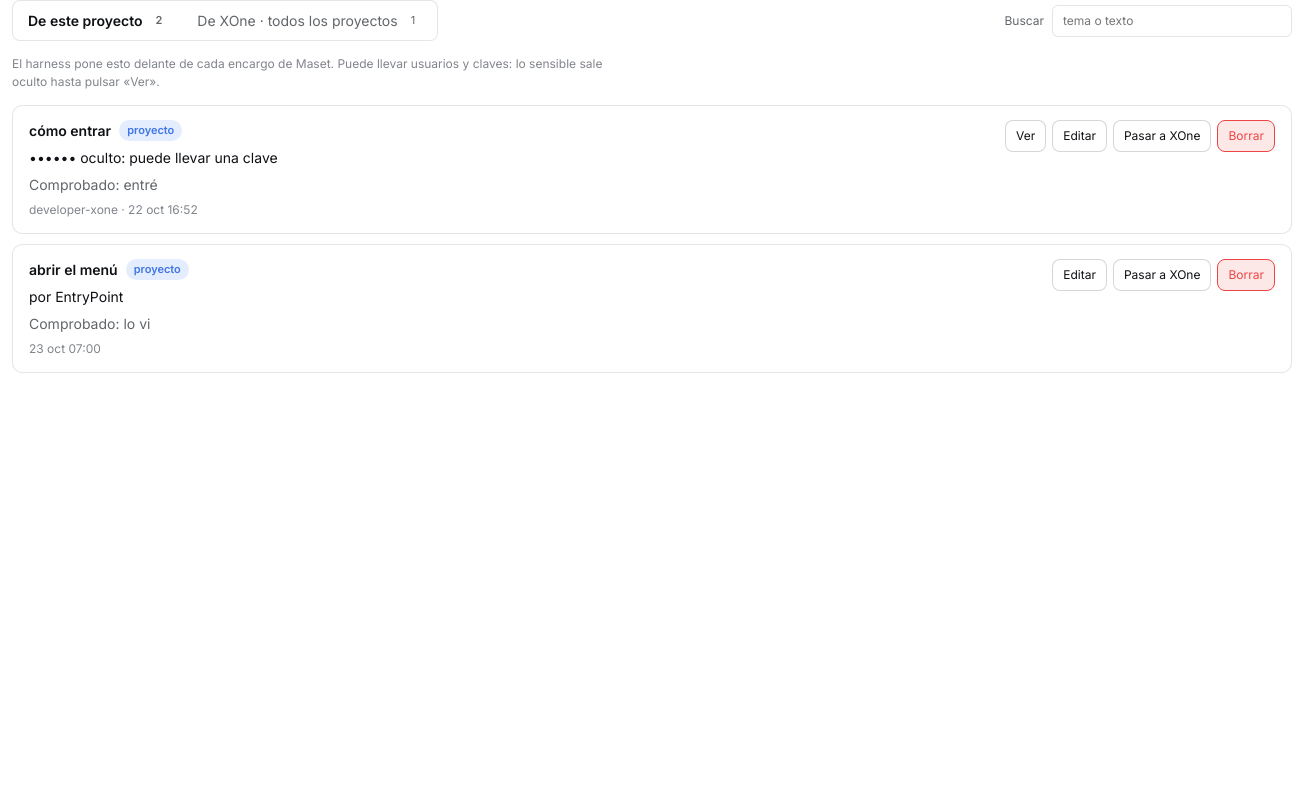
Scenario: la pestaña «Lo aprendido» › editar manda lo cambiado, y una NEGATIVA del servidor se dice en esa entrada sin cerrar el editor
The image size is (1304, 800).
Expected: the heading "abrir el menú" is shown, [29,259,118,280]
Click the button "Editar" in the row of "por EntryPoint": (1080,275) [1052,259,1107,291]
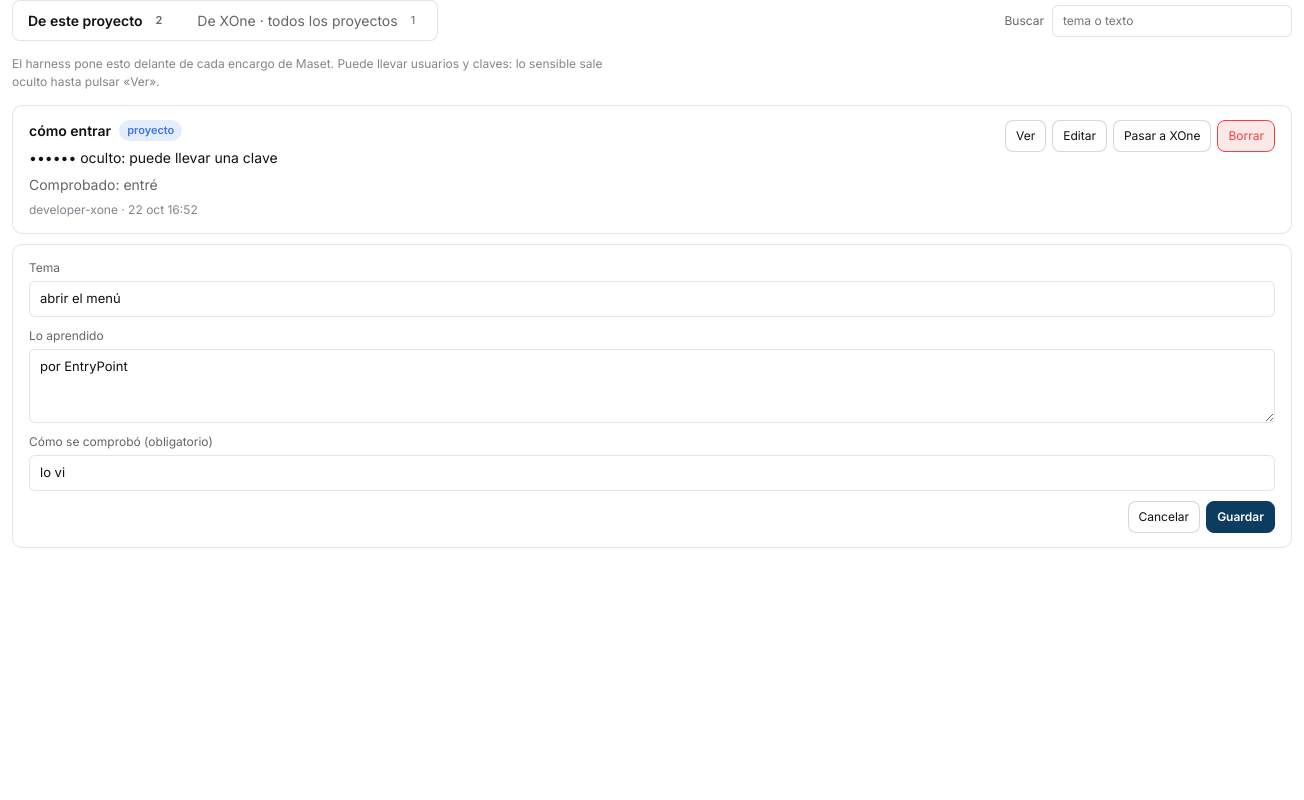
Clear the field labelled "Cómo se comprobó (obligatorio)": (652,473) [29,455,1275,490]
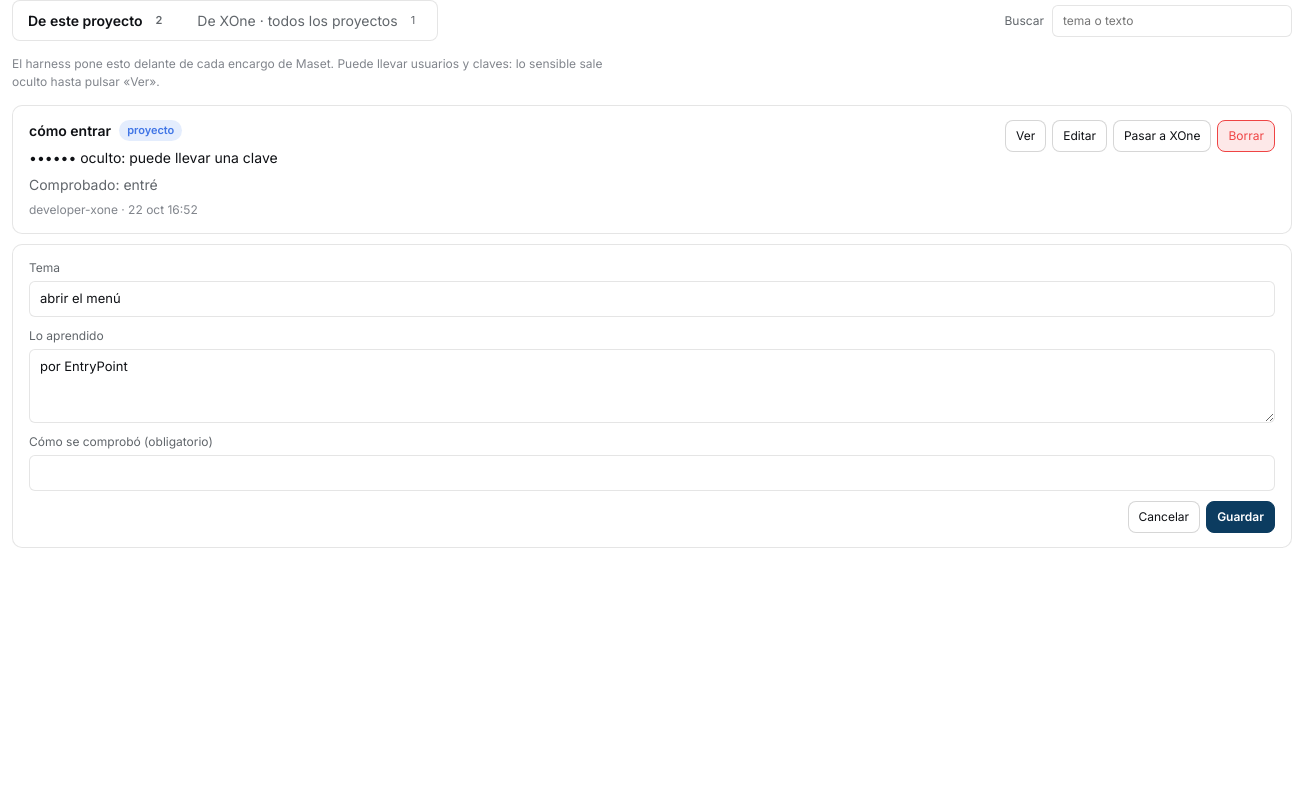
Click the button "Guardar": (1241,516) [1206,500,1275,532]
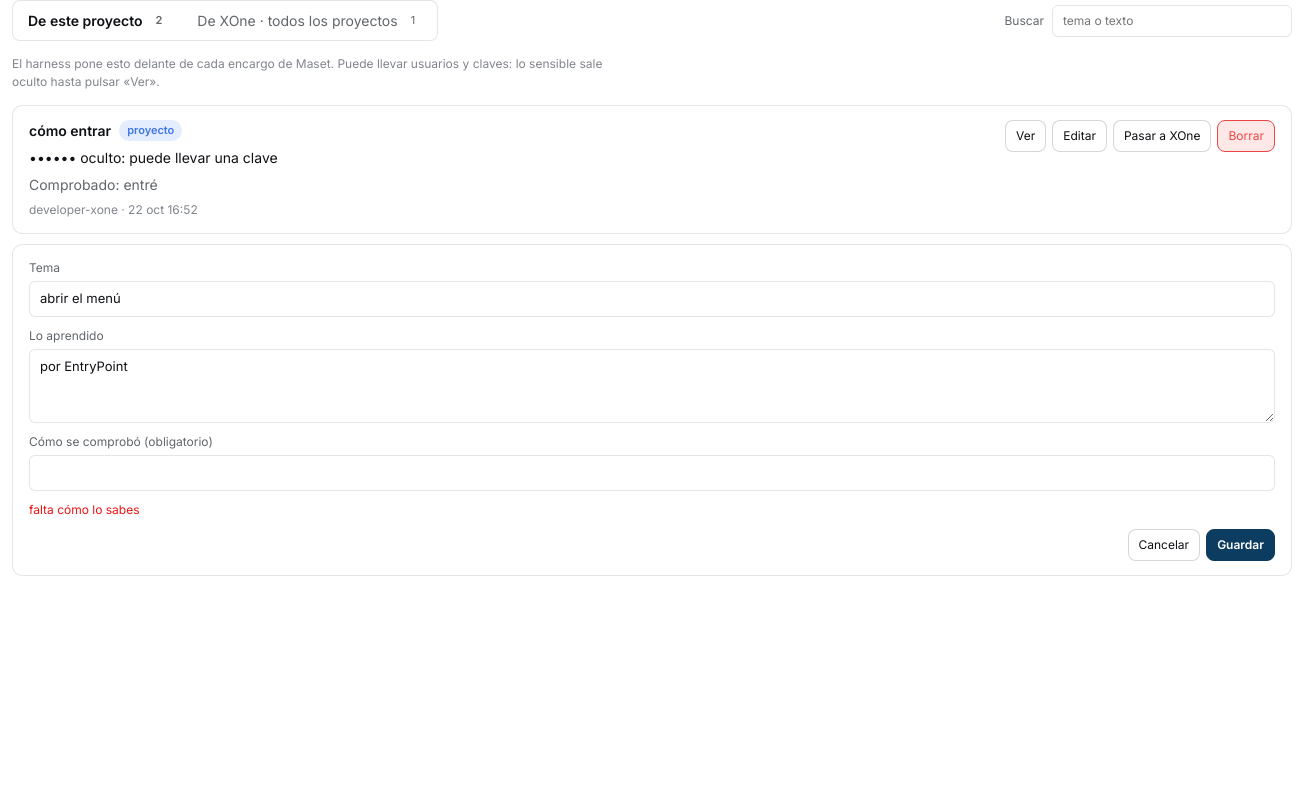
Result: the button "Guardar" is shown at [1206,528,1275,560]
Result: the message reads "falta cómo lo sabes" at [29,502,140,516]
